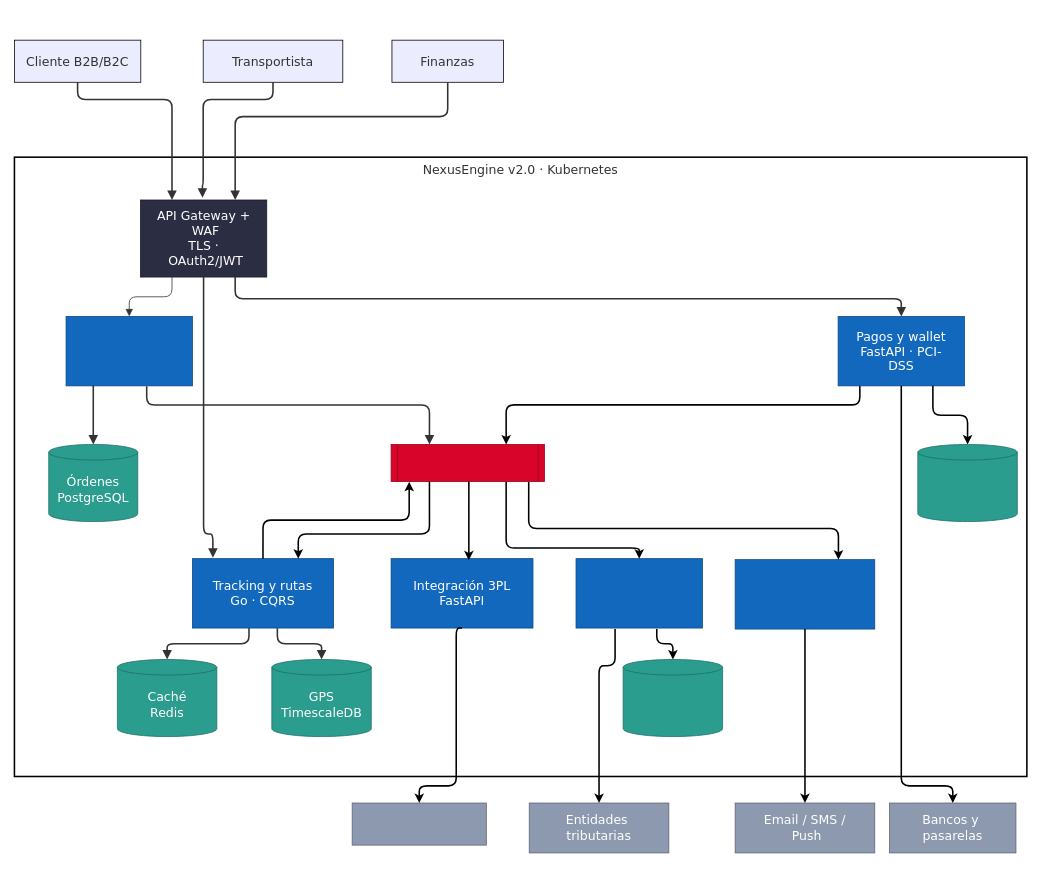
Some shapes in this 1054 by 874 pixel diagram are drawn without their labels. The shapes that lost their labels are listed below. From the top down, each one's box as (x1, y1, x2, y2) in pixels, then its label:
(65, 316, 192, 386): Órdenes FastAPI · Outbox
(390, 444, 545, 482): Kafka · Eventos
(917, 444, 1017, 522): Tokens y ledger Vault + PostgreSQL
(575, 558, 702, 628): Facturación Python
(734, 559, 875, 629): Notificaciones Node.js
(622, 659, 723, 737): Facturas PostgreSQL
(351, 802, 486, 845): Operadores 3PL
